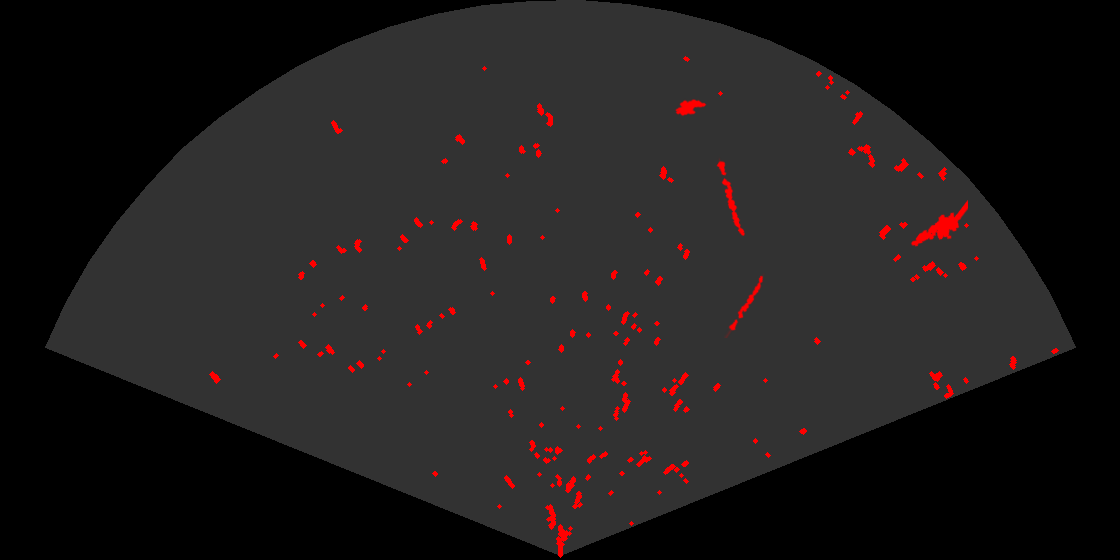AUV: (674, 98, 708, 118)
chain: (724, 272, 766, 338), (715, 157, 746, 238)
frogman: (909, 200, 968, 248)
